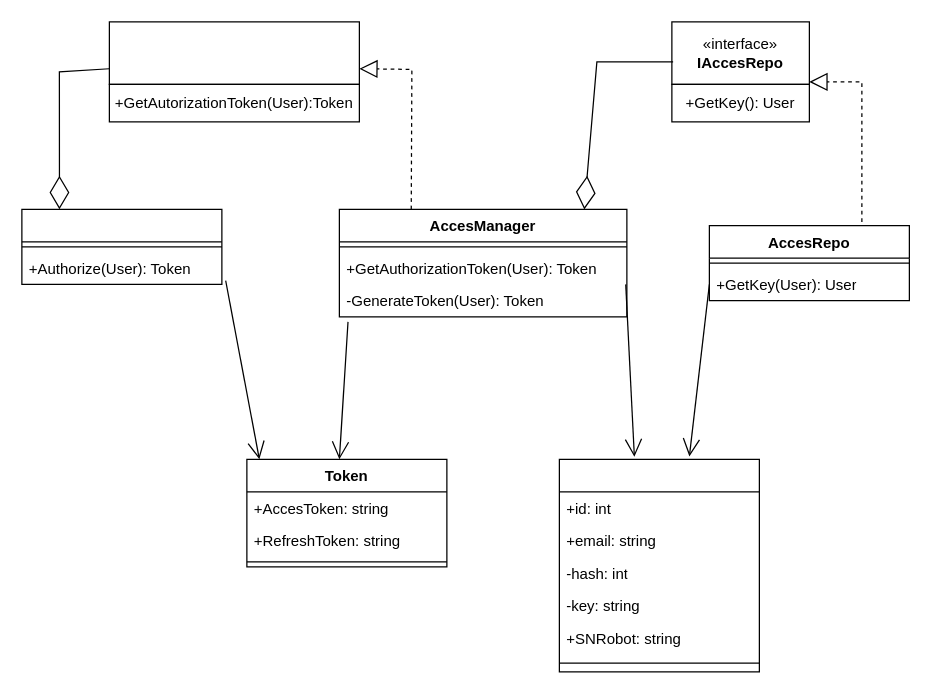
This 931x694 diagram has some shape labels left out. Here are the shapes that lost their labels. From the top down, the box of each, then its label:
(108, 21, 359, 84): «interface» IAccesManager
(21, 208, 222, 284): AccesControl
(558, 458, 759, 672): User
